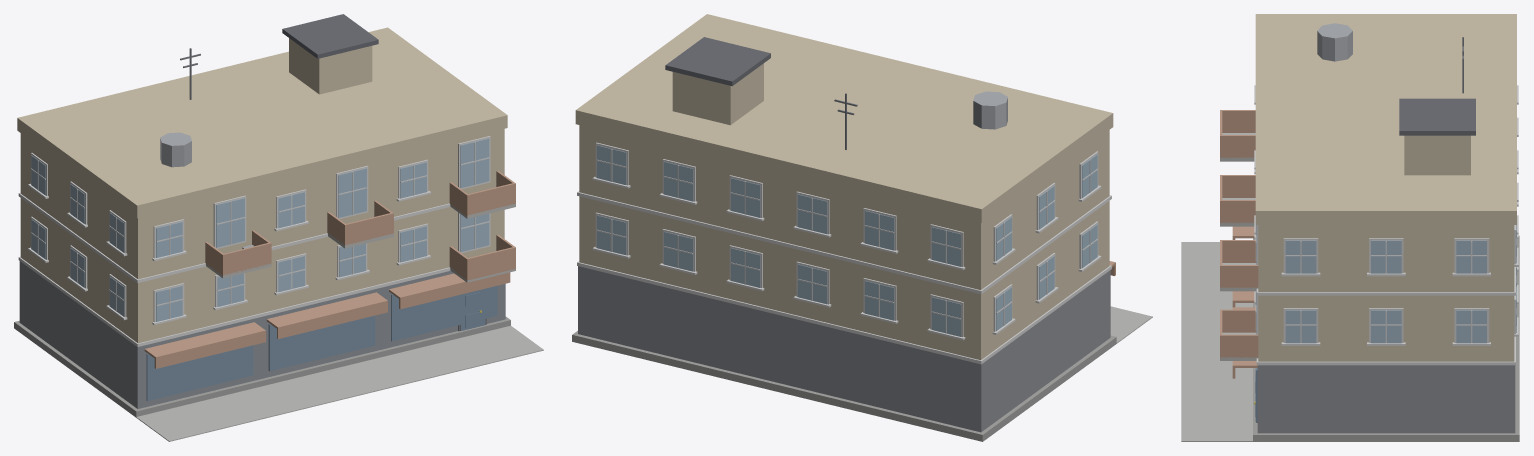
Rendered from Apartman_08.glb.
3 views of the same model, side by side, from view 1: azimuth 30°, elevation 25°; view 2: azimuth 150°, elevation 25°; view 3: azimuth 270°, elevation 25° (orthographic). The views are drawn at different scales.
Visible parts, largest first — view 1: Apartman_08; view 2: Apartman_08; view 3: Apartman_08.
Boxes of the visible parts, x1,y1,x2,y2 form: Apartman_08: (14, 14, 543, 441); Apartman_08: (572, 14, 1152, 441); Apartman_08: (1181, 14, 1519, 441).
Size of the model in its own units: 18.4 by 12.3 by 13.2.
